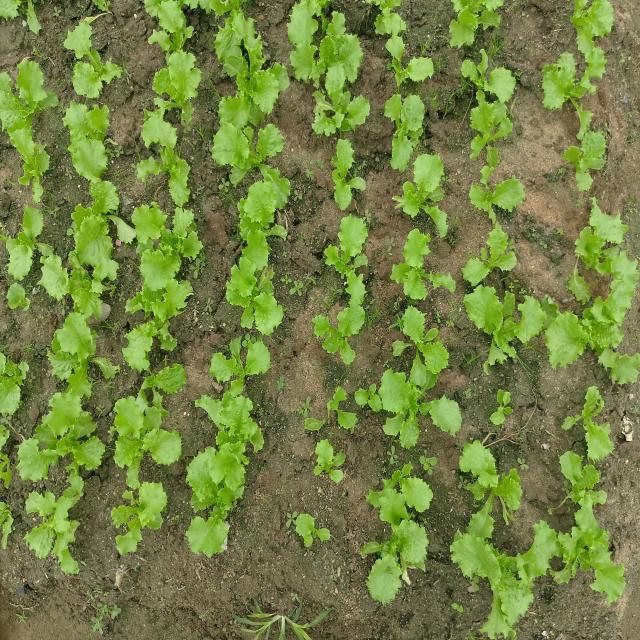Lettuce: (216, 5, 288, 124), (379, 338, 464, 426), (217, 125, 294, 219), (191, 442, 252, 552), (36, 384, 106, 473), (129, 200, 203, 282), (137, 107, 200, 203), (145, 9, 201, 103), (230, 228, 282, 326), (115, 393, 183, 467), (109, 481, 170, 560), (20, 483, 80, 563), (318, 211, 380, 288), (48, 320, 116, 384), (460, 225, 525, 289), (208, 334, 278, 392), (376, 37, 437, 96), (61, 27, 120, 88), (310, 86, 375, 138), (0, 67, 52, 130), (62, 99, 119, 155), (325, 144, 374, 203), (82, 170, 126, 233), (280, 509, 338, 554), (0, 213, 51, 262), (0, 344, 32, 420), (68, 253, 104, 312), (307, 438, 350, 486), (487, 385, 518, 428), (127, 211, 130, 216)
